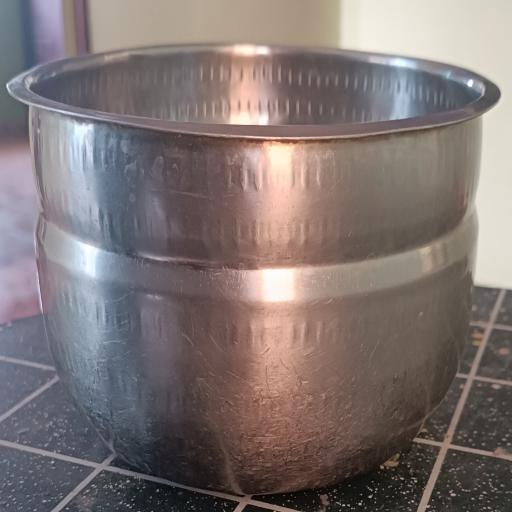vessel: (9, 45, 499, 493)
